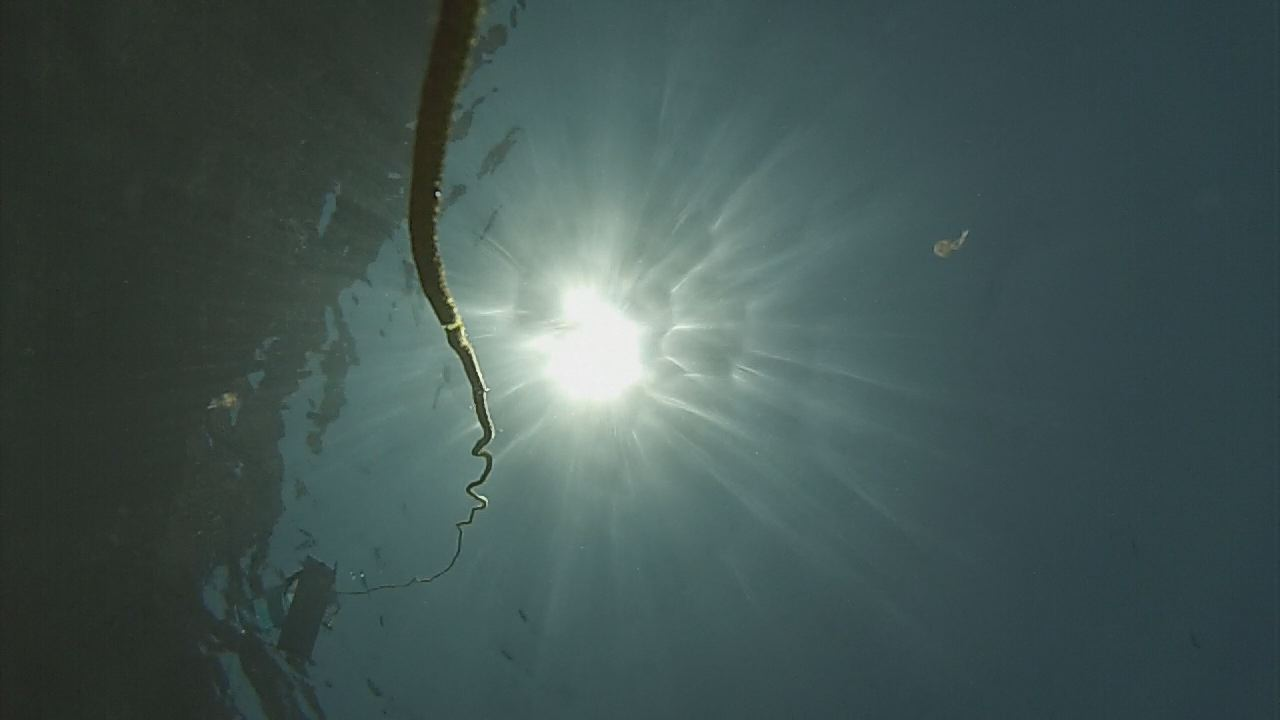pelagia: (930, 223, 974, 264), (202, 389, 244, 416)
